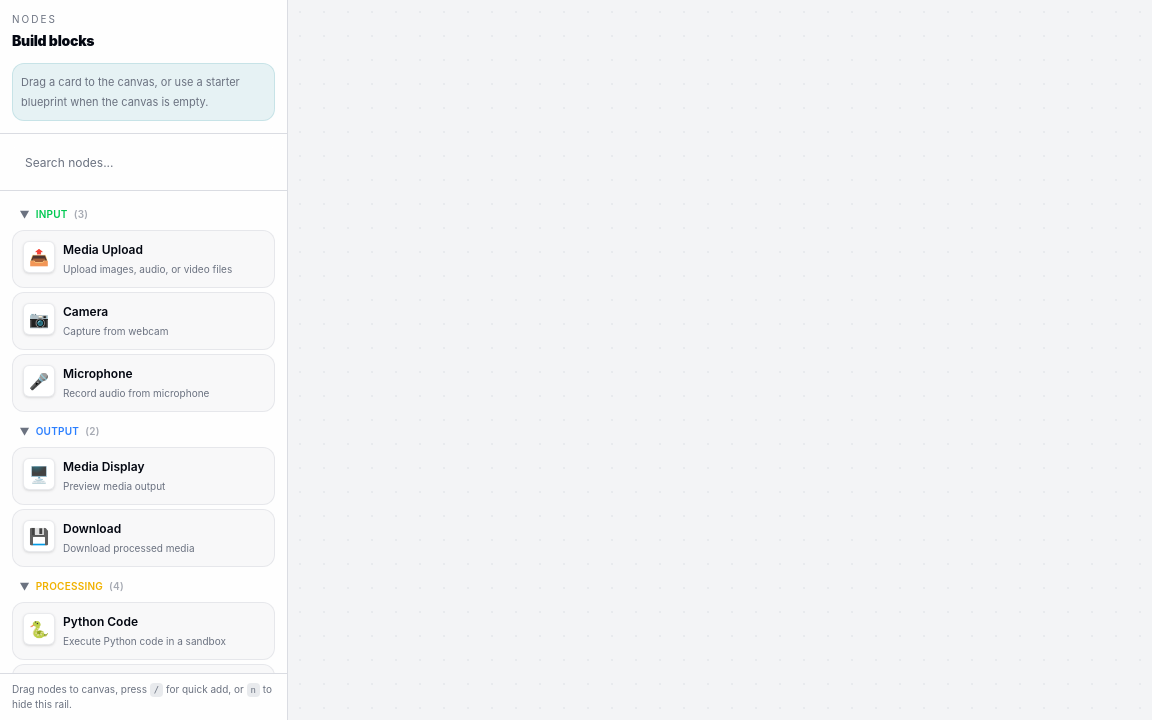
it: NodePalette › shows no match message when search has no results
Type "xyznonexistent" into the field with placeholder "Search nodes...".
click(144, 162); type("xyznonexistent")  # box top-left (12, 146), bottom-right (275, 178)
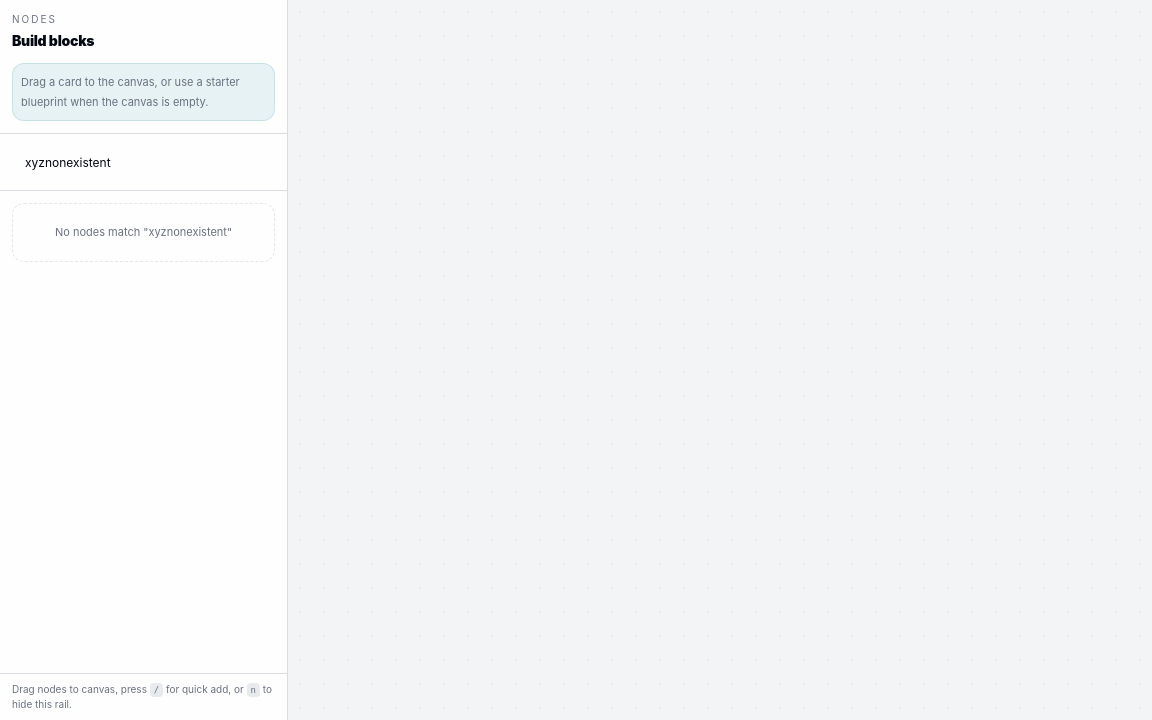
Expected: the text "No nodes match \"xyznonexistent\"" is shown, top-left (12, 203), bottom-right (275, 262)
